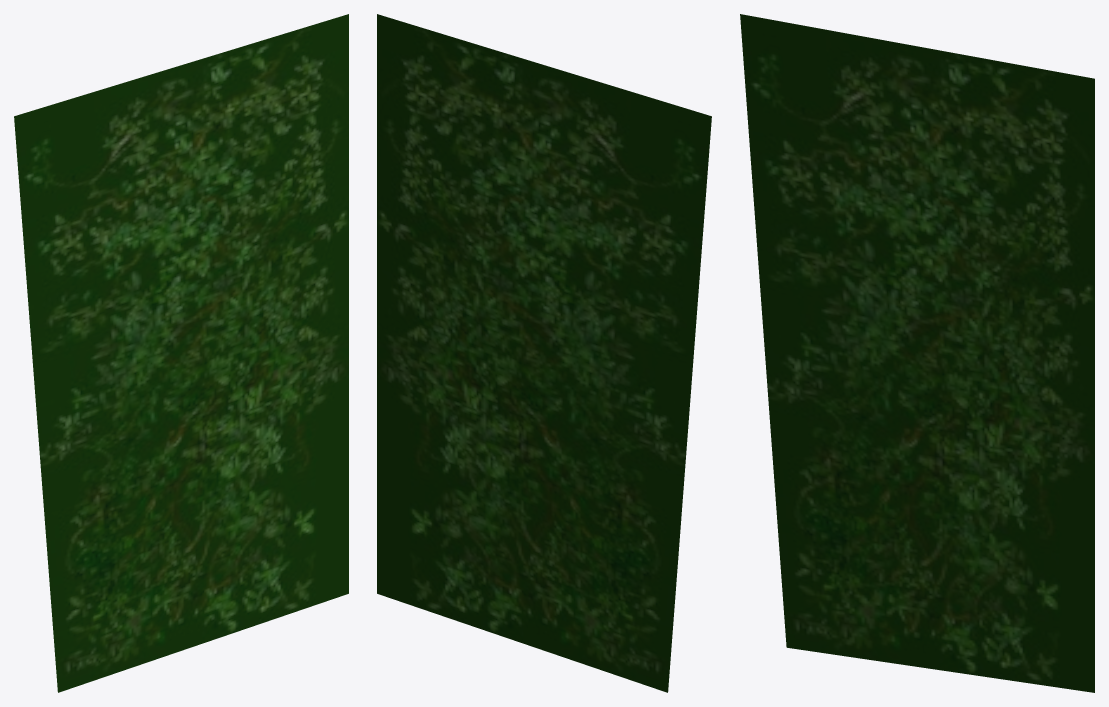
The model's file is pir_m_prp_gdn_wallVine.fbx.
3 views of the same model, side by side, from view 1: azimuth 30°, elevation 25°; view 2: azimuth 150°, elevation 25°; view 3: azimuth 330°, elevation 25° (orthographic). The views are drawn at different scales.
Visible parts, largest first — view 1: lod_high; view 2: lod_high; view 3: lod_high.
Boxes of the visible parts, x1,y1,x2,y2 form: lod_high: [14, 14, 348, 692]; lod_high: [377, 14, 711, 692]; lod_high: [740, 14, 1094, 692].
Bounding box in the file's own units: 1848 × 3205 × 0.000522.
1 material, 1 textured.
